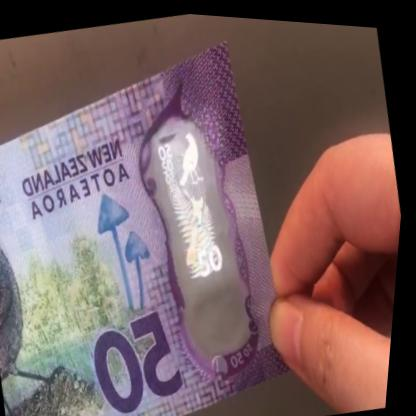50B: (143, 120, 259, 349)
